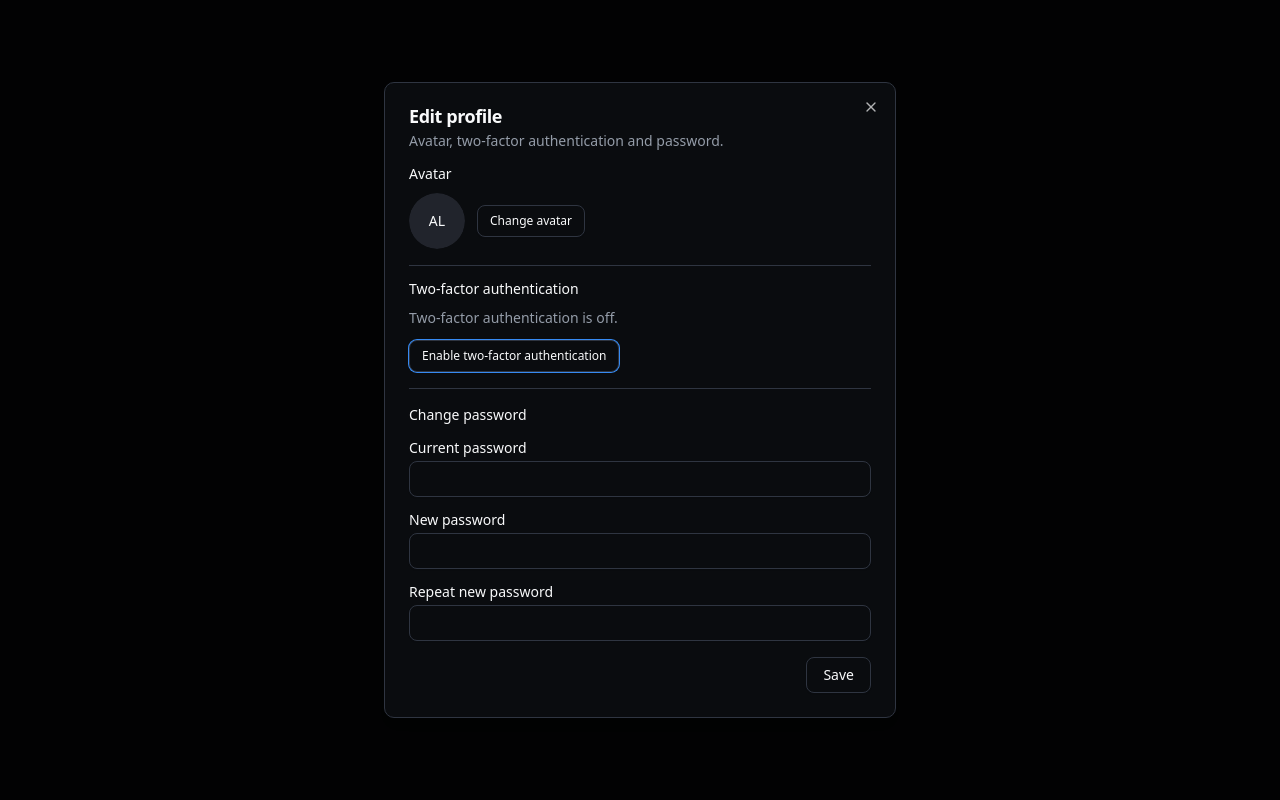
Test case: EditProfileDialog › changes the password when the current one is right
The width and height of the screenshot is (1280, 800).
In the password field labelled "Current password": (640, 479) x1=409 y1=461 x2=871 y2=497, type "correct-horse-1"
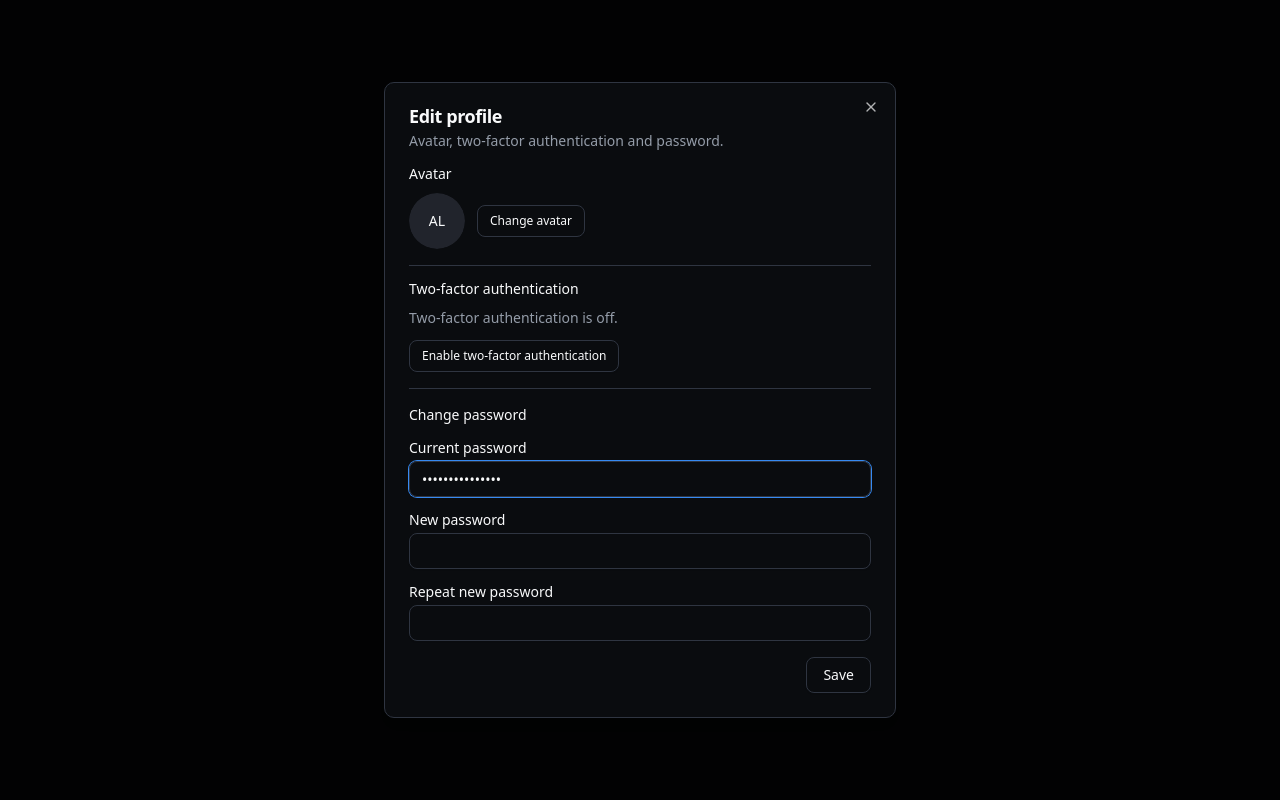
In the password field labelled "New password": (640, 551) x1=409 y1=533 x2=871 y2=569, type "new-horse-battery-2"
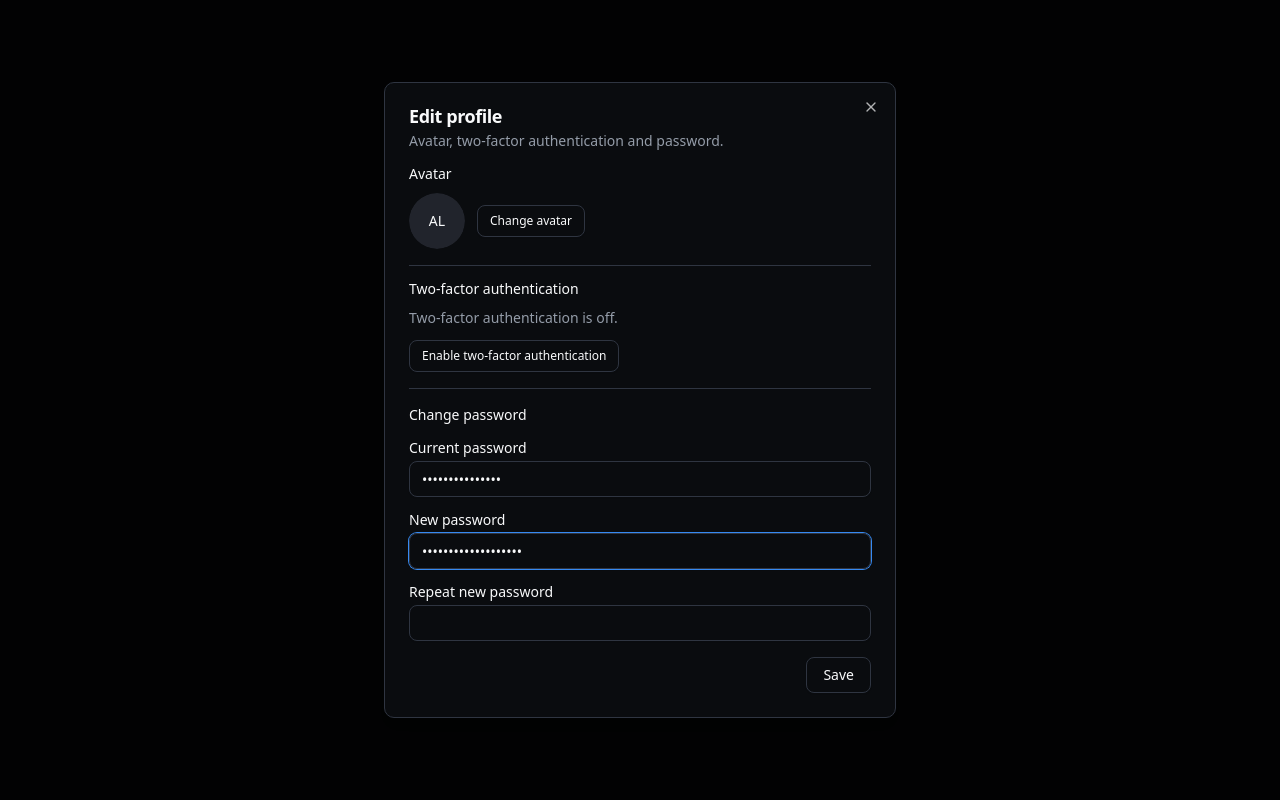
In the password field labelled "Repeat new password": (640, 623) x1=409 y1=605 x2=871 y2=641, type "new-horse-battery-2"
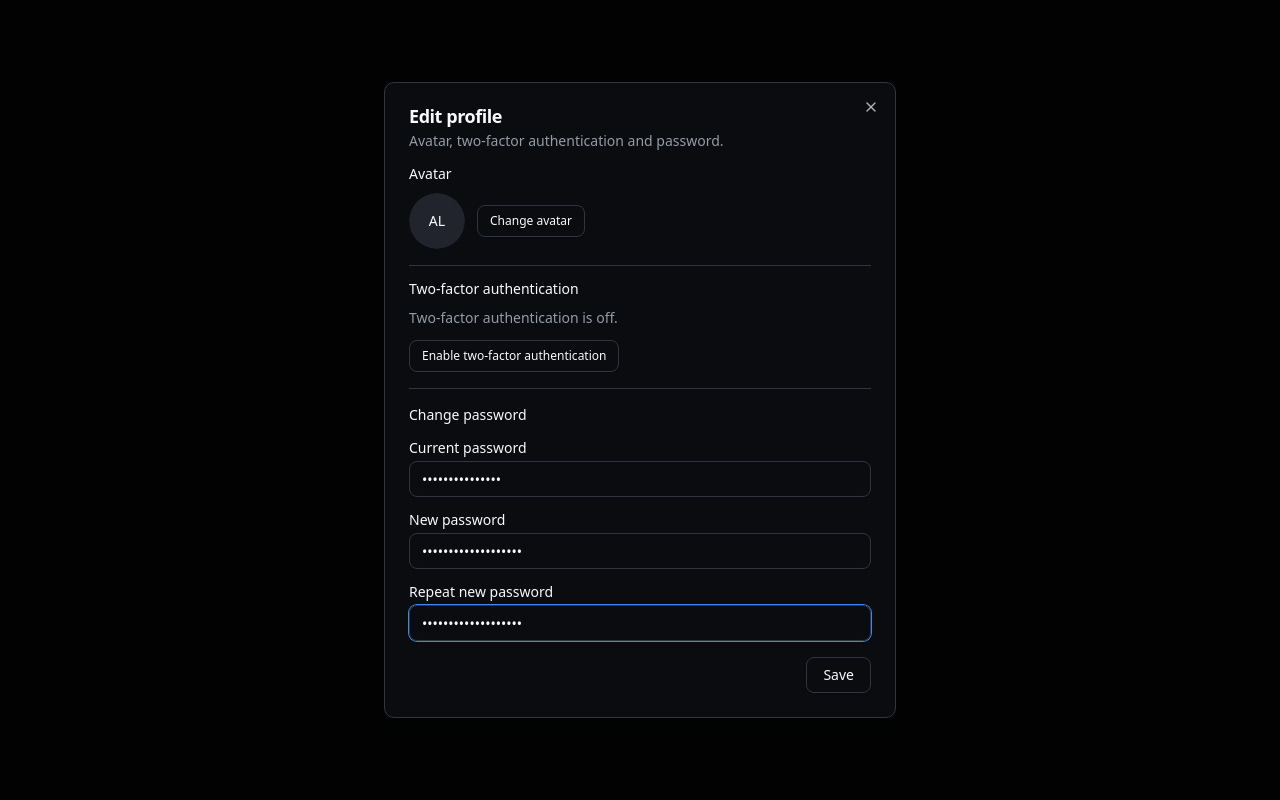
Click the button "Save": (839, 675) x1=806 y1=657 x2=871 y2=693
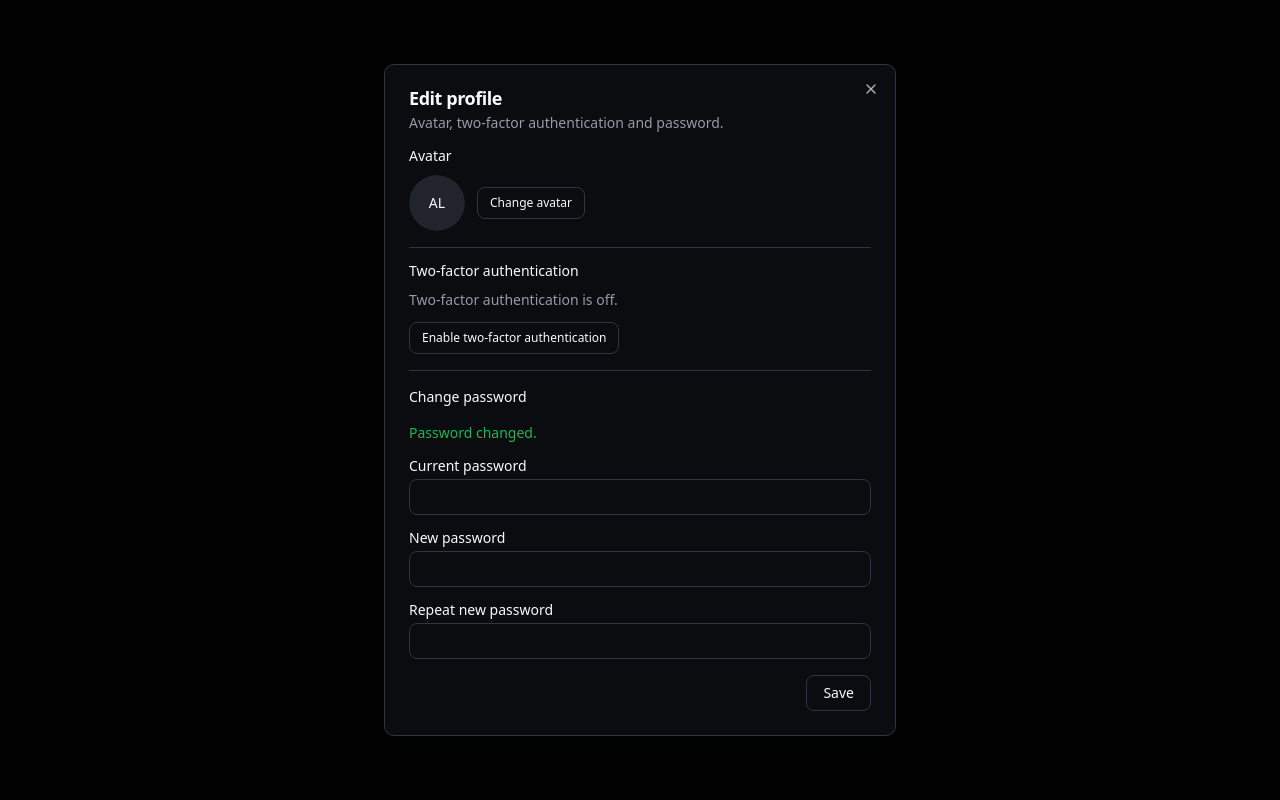
Now the text "Password changed." is shown, box x1=409 y1=423 x2=537 y2=442
